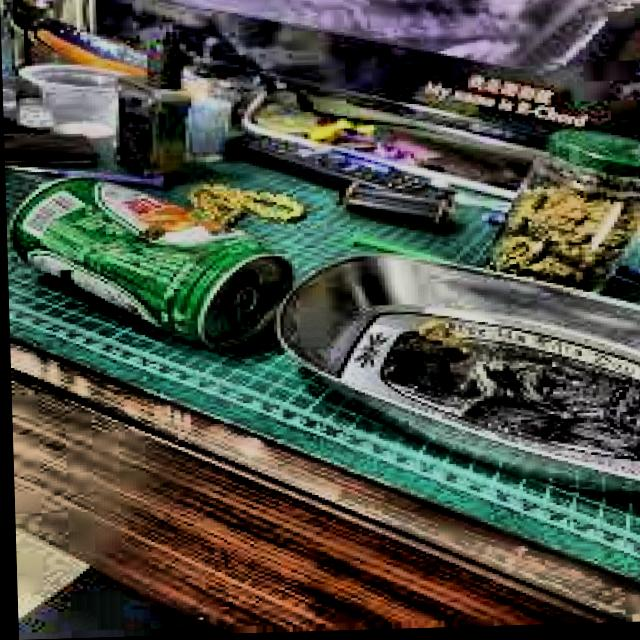can: (8, 159, 302, 372)
